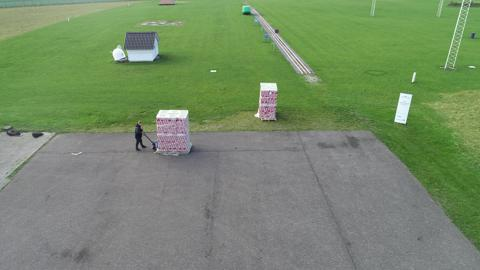RockwoolPallet: (259, 81, 279, 122)
